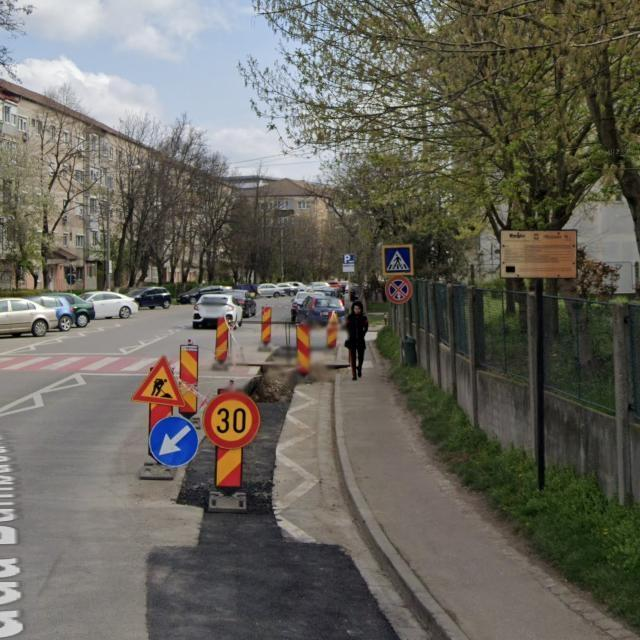forb_speed_over_30: (204, 392, 260, 450)
forb_waiting: (386, 277, 412, 304)
info_crosswalk: (383, 245, 414, 276)
